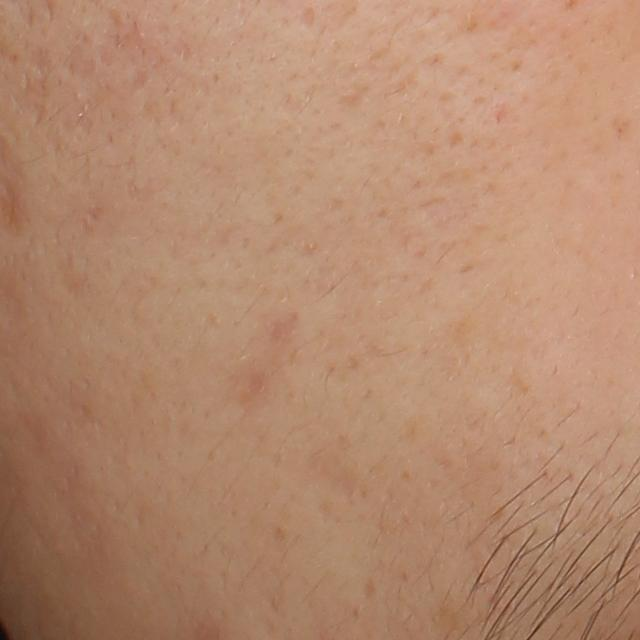atrophic_scar: (12, 47, 52, 126), (98, 24, 148, 68), (293, 5, 316, 31)
